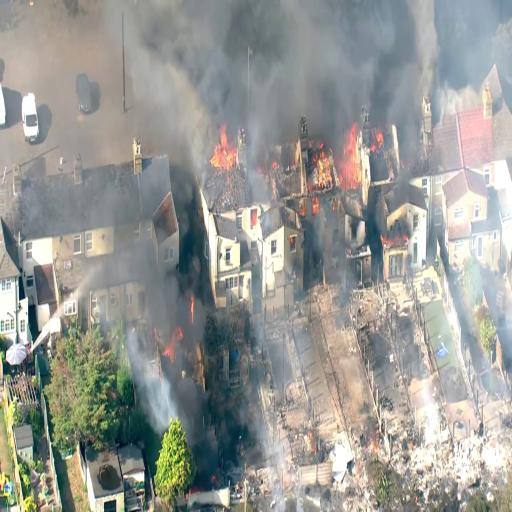fire: (212, 125, 231, 166), (340, 135, 348, 205)
smoke: (356, 0, 510, 93), (268, 0, 342, 131), (138, 0, 264, 70)
